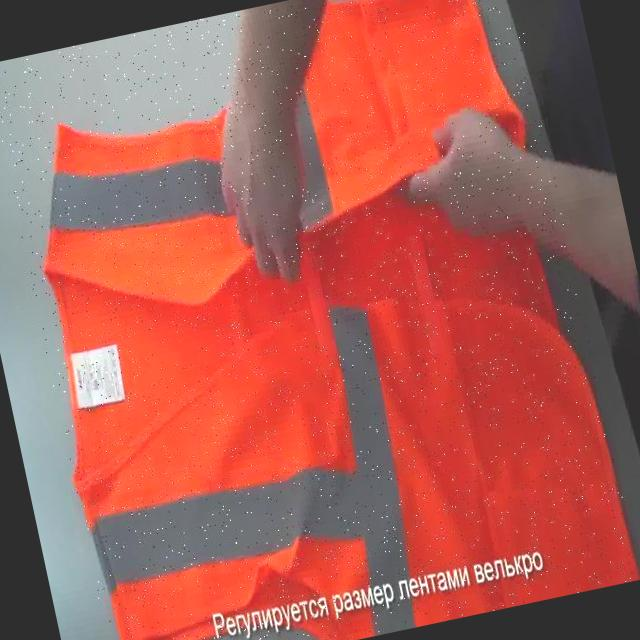no-gloves: (194, 74, 340, 284), (390, 90, 551, 254)
vest: (0, 0, 639, 640)
